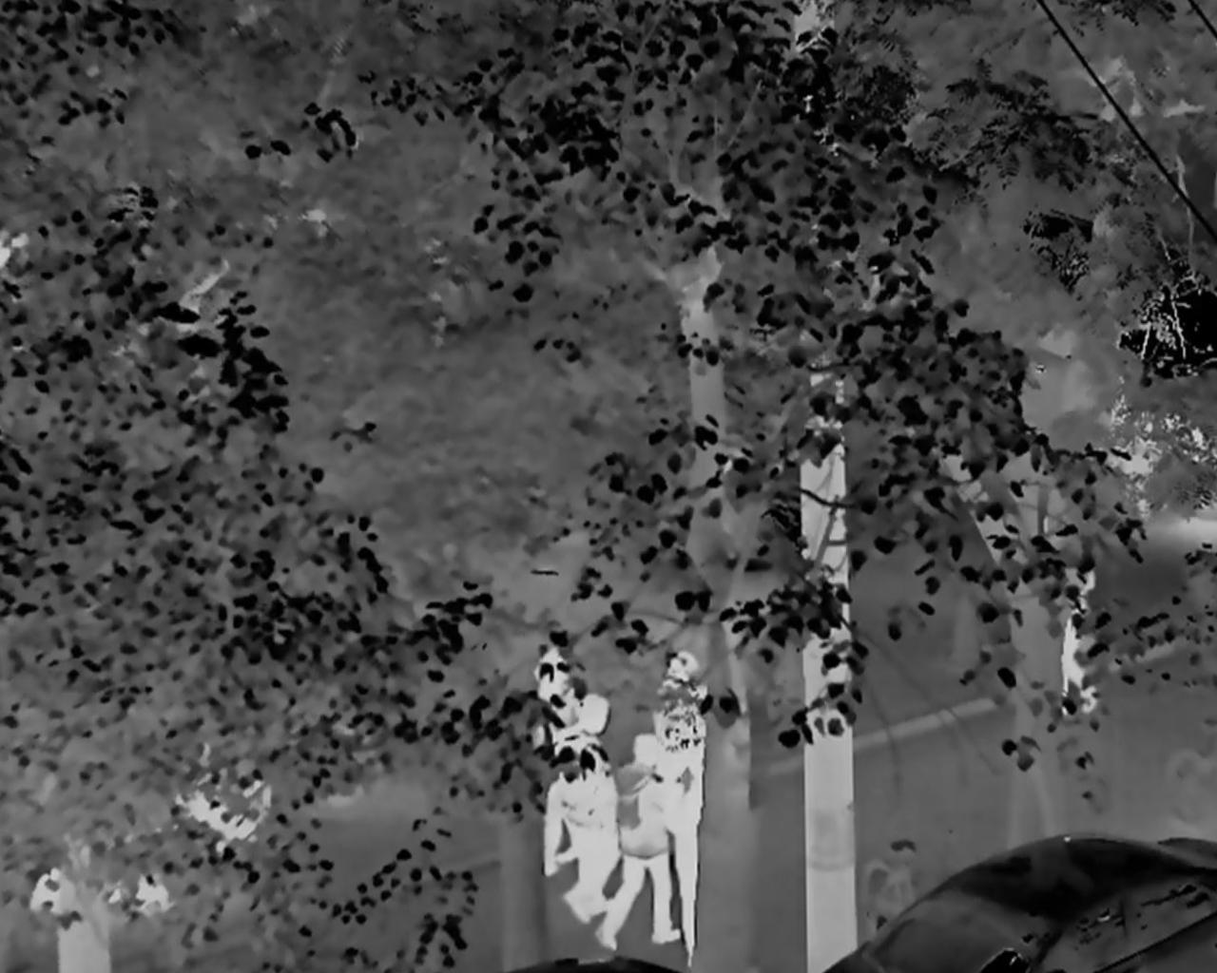person: (608, 733, 684, 945), (653, 648, 709, 901), (562, 697, 619, 933), (538, 635, 583, 874)
